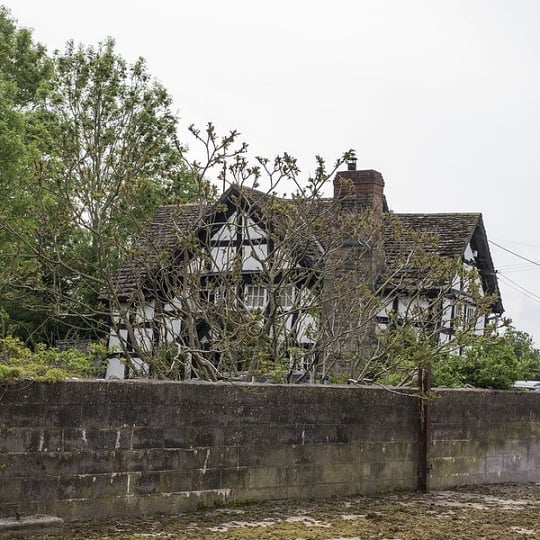building: (119, 193, 509, 407)
sky: (179, 1, 540, 187)
tree: (1, 50, 185, 384), (149, 151, 337, 392)
